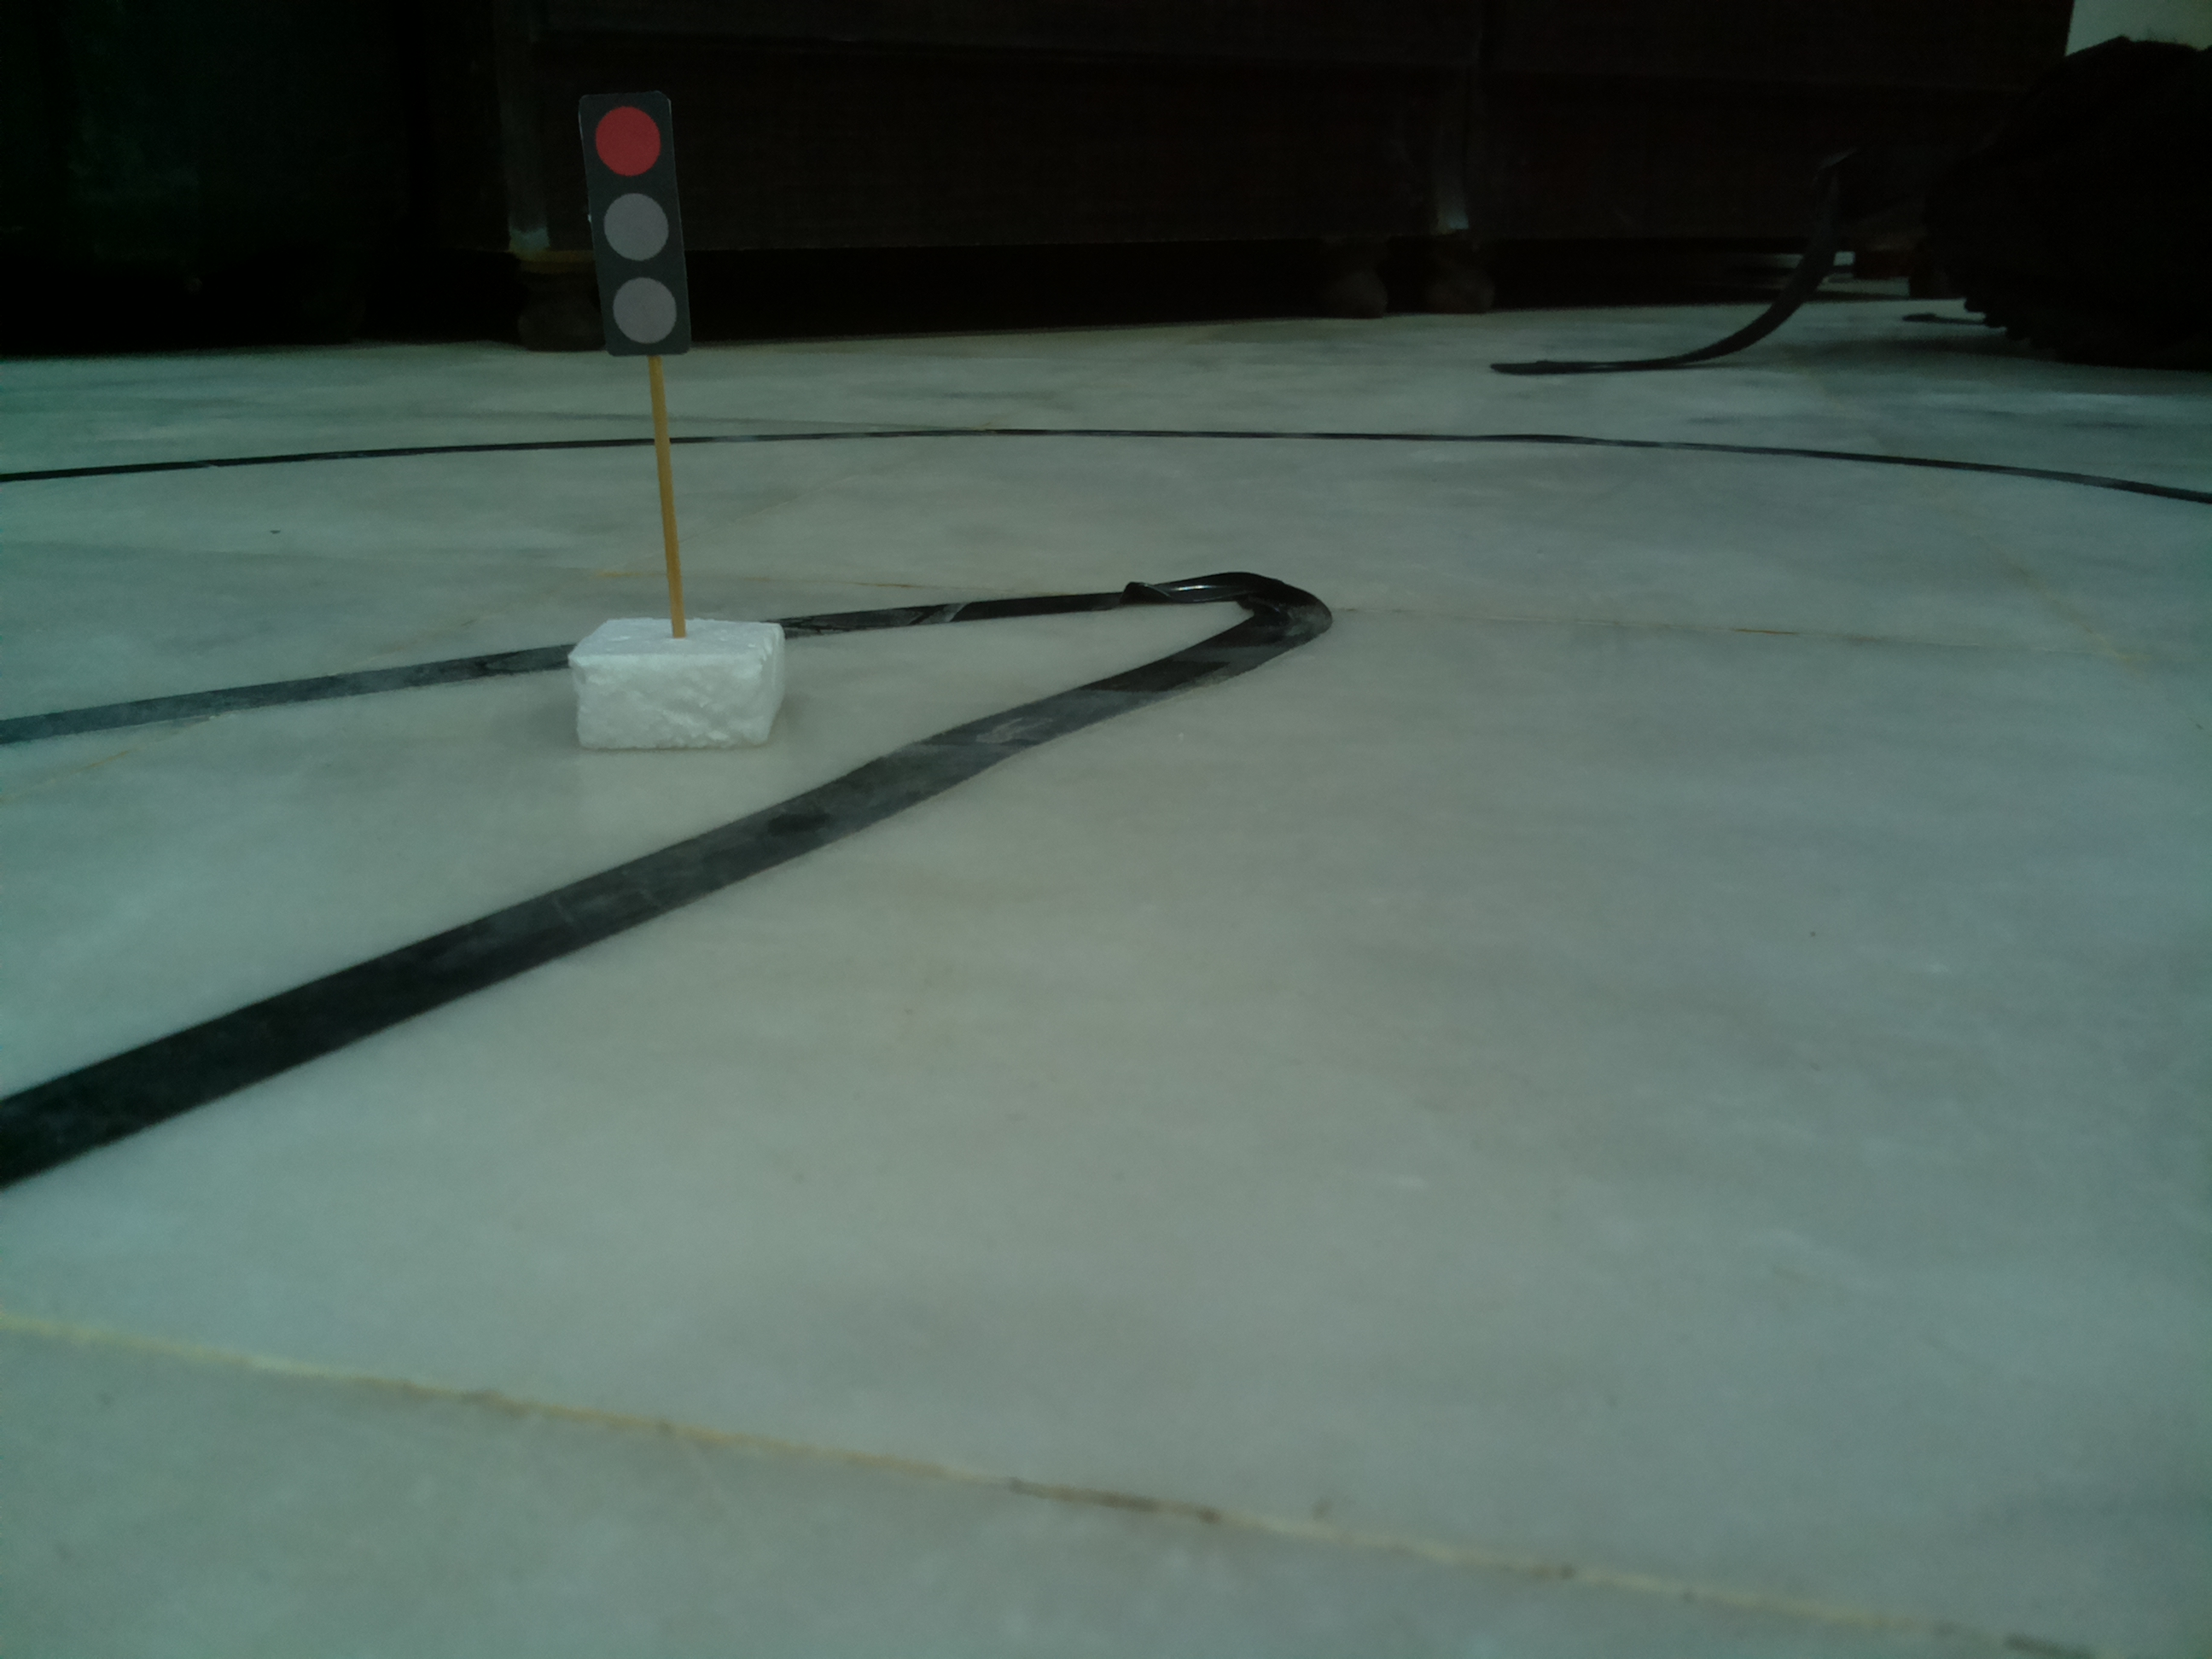Red traffic light: (571, 82, 712, 362)
